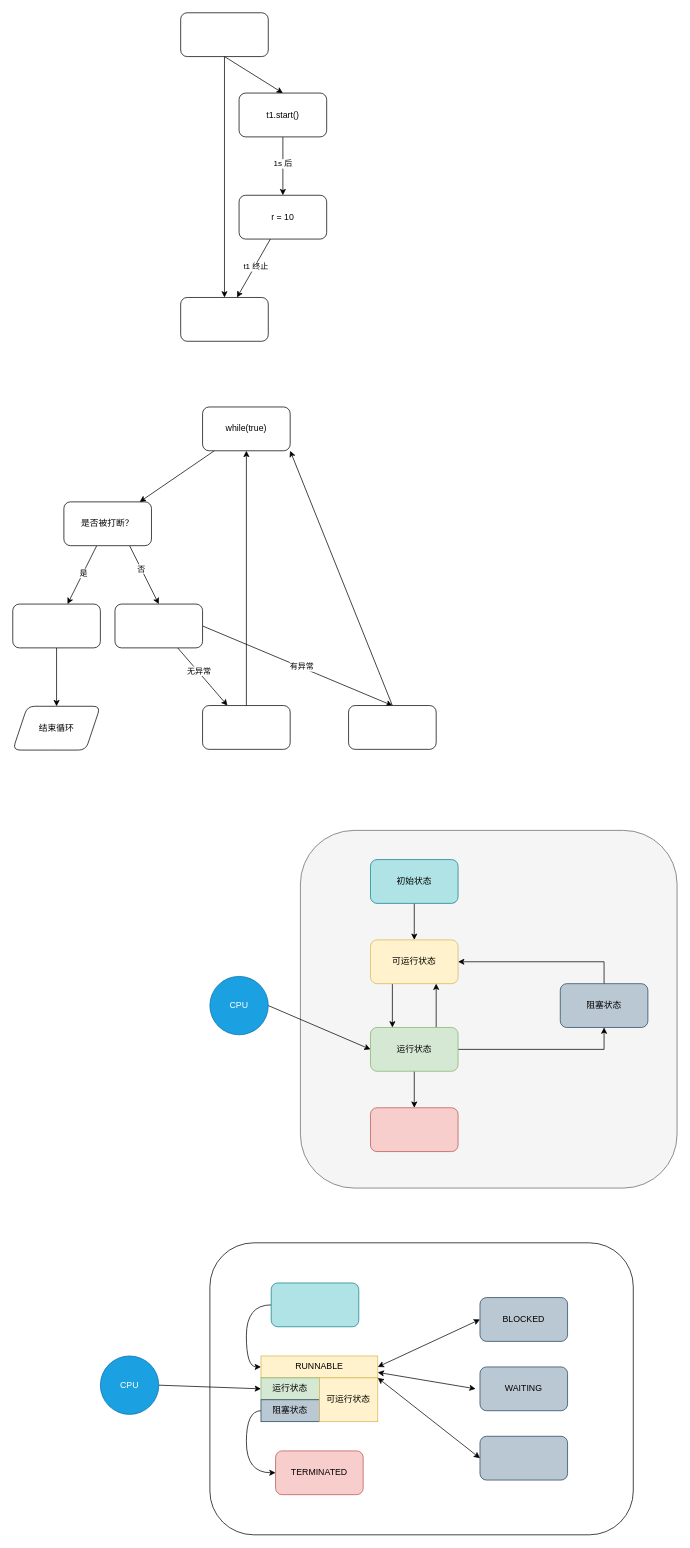
The diagram is 690 pixels wide and 1548 high, and some of its shapes have lost their labels. The centre of each missing label's shape, as x and y in pixels:
"main" belongs at pixel 224 34.
"NEW" belongs at pixel 314 1304.
"t1.join()" belongs at pixel 224 319.
"TIMED_WAITING" belongs at pixel 523 1458.
"处理后续" belongs at pixel 56 625.
"执行监控记录" belongs at pixel 246 727.
"睡眠2s" belongs at pixel 158 625.
"终止状态" belongs at pixel 414 1129.
"设置打断标记" belongs at pixel 392 727.
